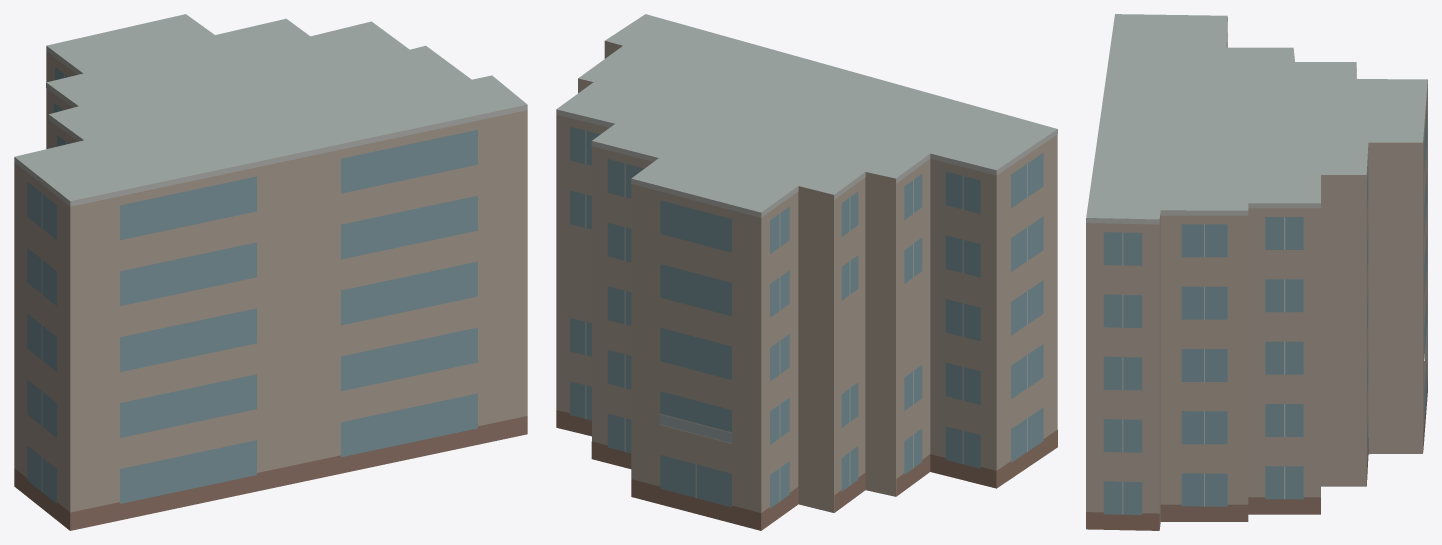
Rendered from survey-upis-32769682.glb.
3 renders of one model, left to right at view 1: azimuth 30°, elevation 25°; view 2: azimuth 150°, elevation 25°; view 3: azimuth 270°, elevation 25°, orthographic. The views are drawn at different scales.
Parts seen in each view (by area): view 1: survey-upis-32769682.tmp; view 2: survey-upis-32769682.tmp; view 3: survey-upis-32769682.tmp.
Part boxes in pixels (x1=…): survey-upis-32769682.tmp: x1=14, y1=14, x2=527, y2=530; survey-upis-32769682.tmp: x1=556, y1=14, x2=1057, y2=530; survey-upis-32769682.tmp: x1=1086, y1=14, x2=1427, y2=530.
Size of the model in its own units: 20.8 by 14.7 by 14.63.
